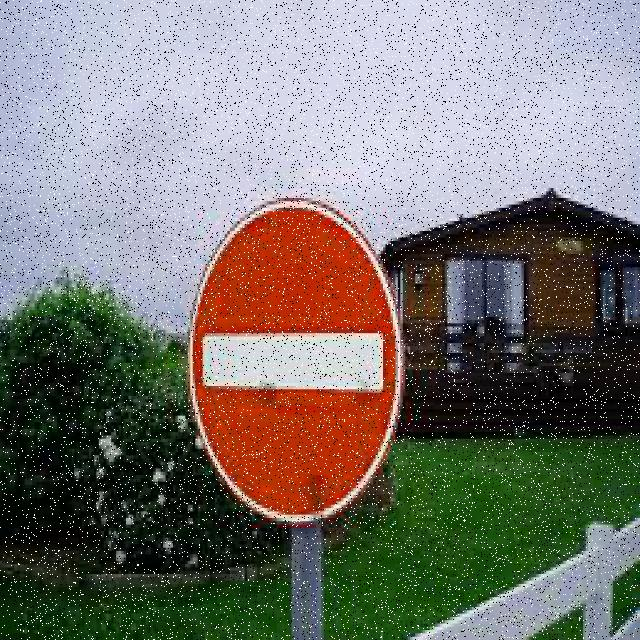no entry: (188, 195, 400, 521)
